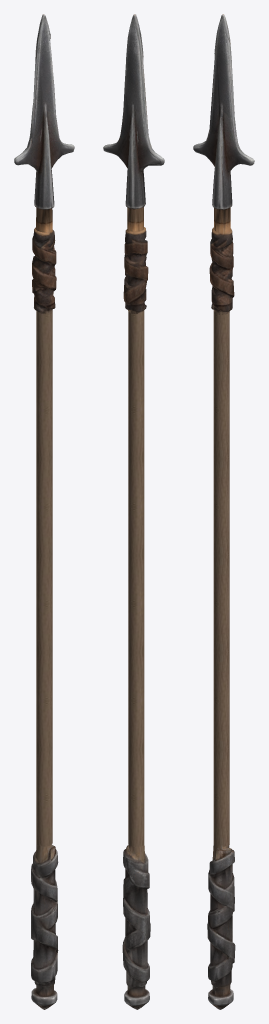
Rendered from wpn_spear_iron.glb.
3 renders of one model, left to right at view 1: azimuth 30°, elevation 25°; view 2: azimuth 150°, elevation 25°; view 3: azimuth 330°, elevation 25°, orthographic.
Visible parts, largest first — view 1: wpn_spear_iron; view 2: wpn_spear_iron; view 3: wpn_spear_iron.
Boxes of the visible parts, left/top/right/bottom form: wpn_spear_iron: left=14, top=14, right=74, bottom=1009; wpn_spear_iron: left=103, top=14, right=164, bottom=1009; wpn_spear_iron: left=193, top=14, right=254, bottom=1009.
Size of the model in its own units: 0.1302 by 2.05 by 0.0565.
Materials: 1 (1 with a texture image).
